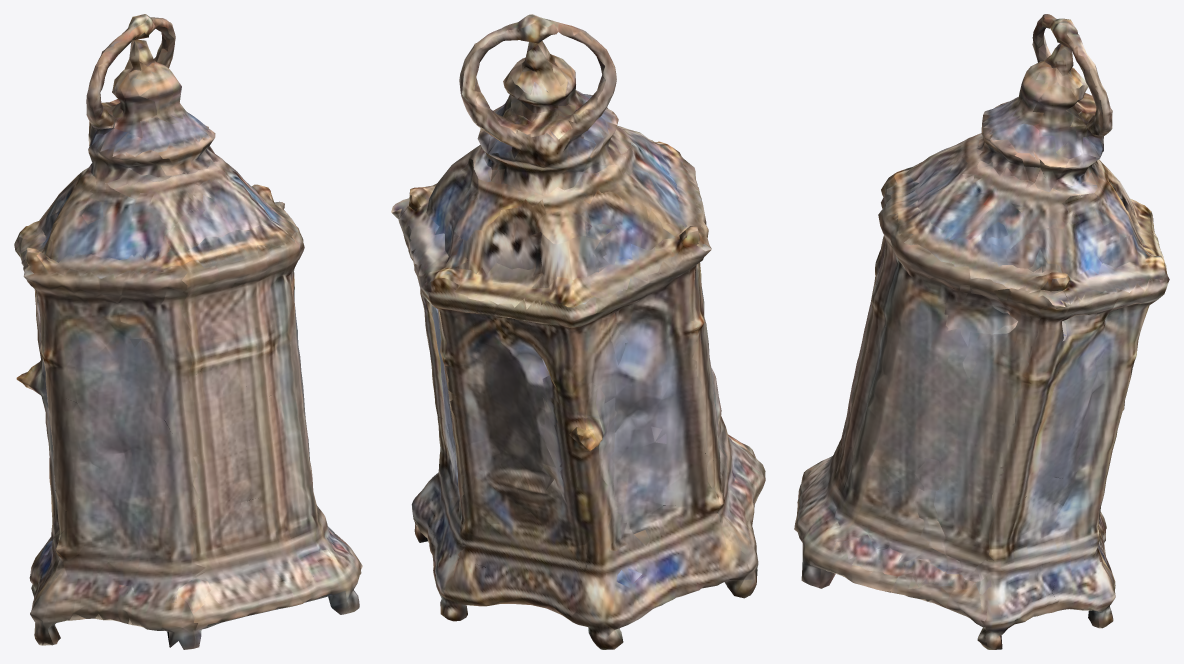
3 renders of one model, left to right at view 1: azimuth 30°, elevation 25°; view 2: azimuth 150°, elevation 25°; view 3: azimuth 270°, elevation 25°, orthographic. The views are drawn at different scales.
Visible parts, largest first — view 1: world; view 2: world; view 3: world.
Boxes of the visible parts, box(x1,y1,x2,y2) form: world: box(14, 14, 362, 649); world: box(391, 14, 765, 649); world: box(794, 14, 1169, 649).
Size of the model in its own units: 0.5008 by 0.8843 by 0.5224.
1 material, 1 textured.
